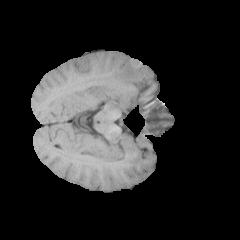glioma: (100, 58, 151, 98)
